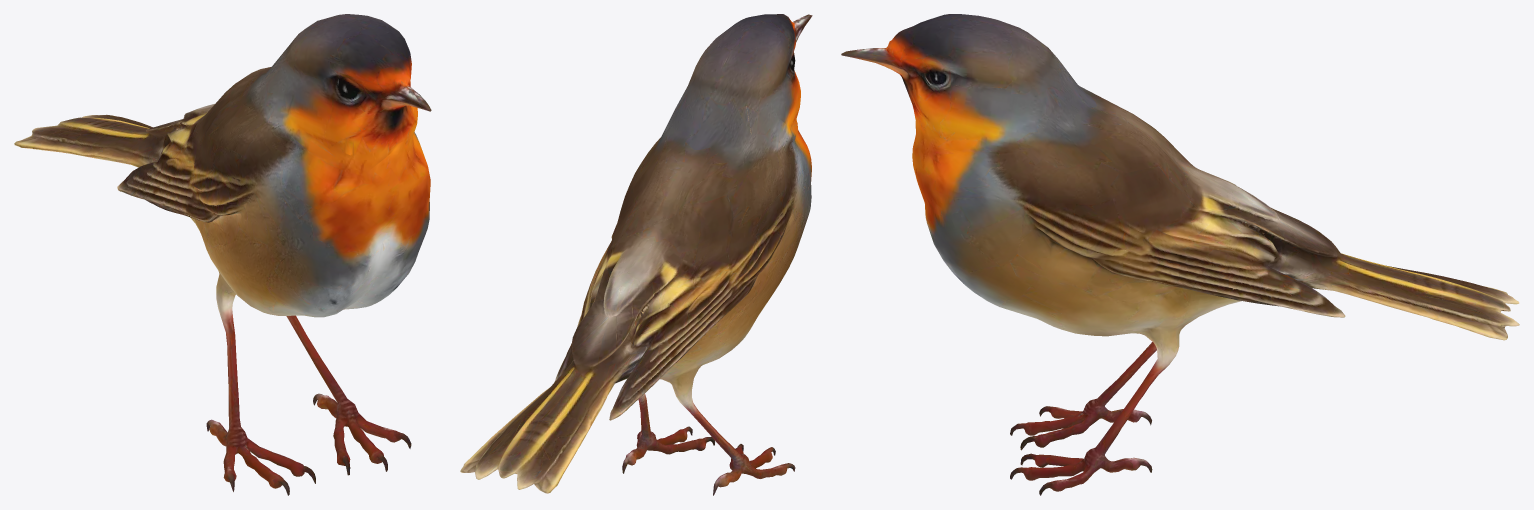
Rendered from bird-roodborst.glb.
3 renders of one model, left to right at view 1: azimuth 30°, elevation 25°; view 2: azimuth 150°, elevation 25°; view 3: azimuth 270°, elevation 25°, orthographic. The views are drawn at different scales.
Bounding box in the file's own units: 0.5326 × 1.36 × 1.91.
Materials: 1 (1 with a texture image).
